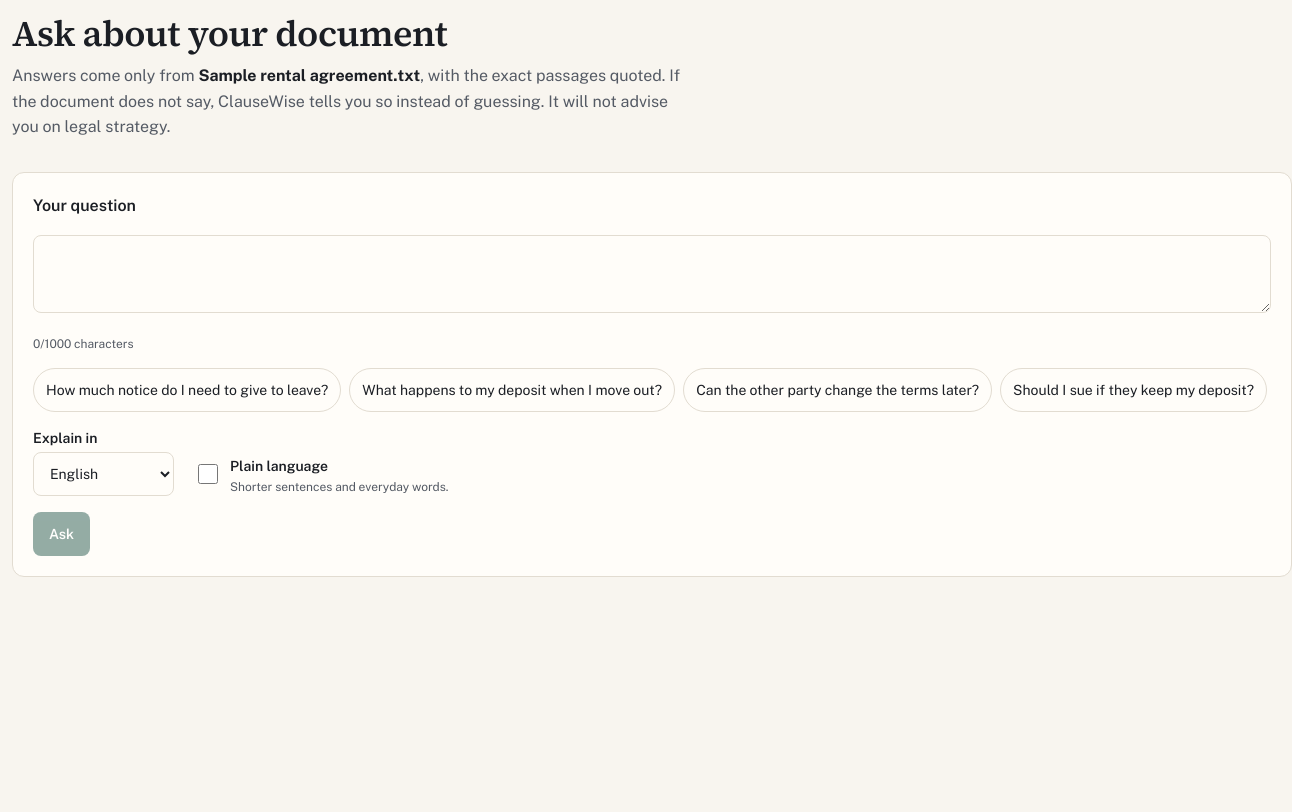
Test: AskView › shows a retryable error when the service fails
This screenshot has width=1292, height=812.
Click the button "How much notice do I need to give to leave?": click(187, 390) [33,368,341,412]
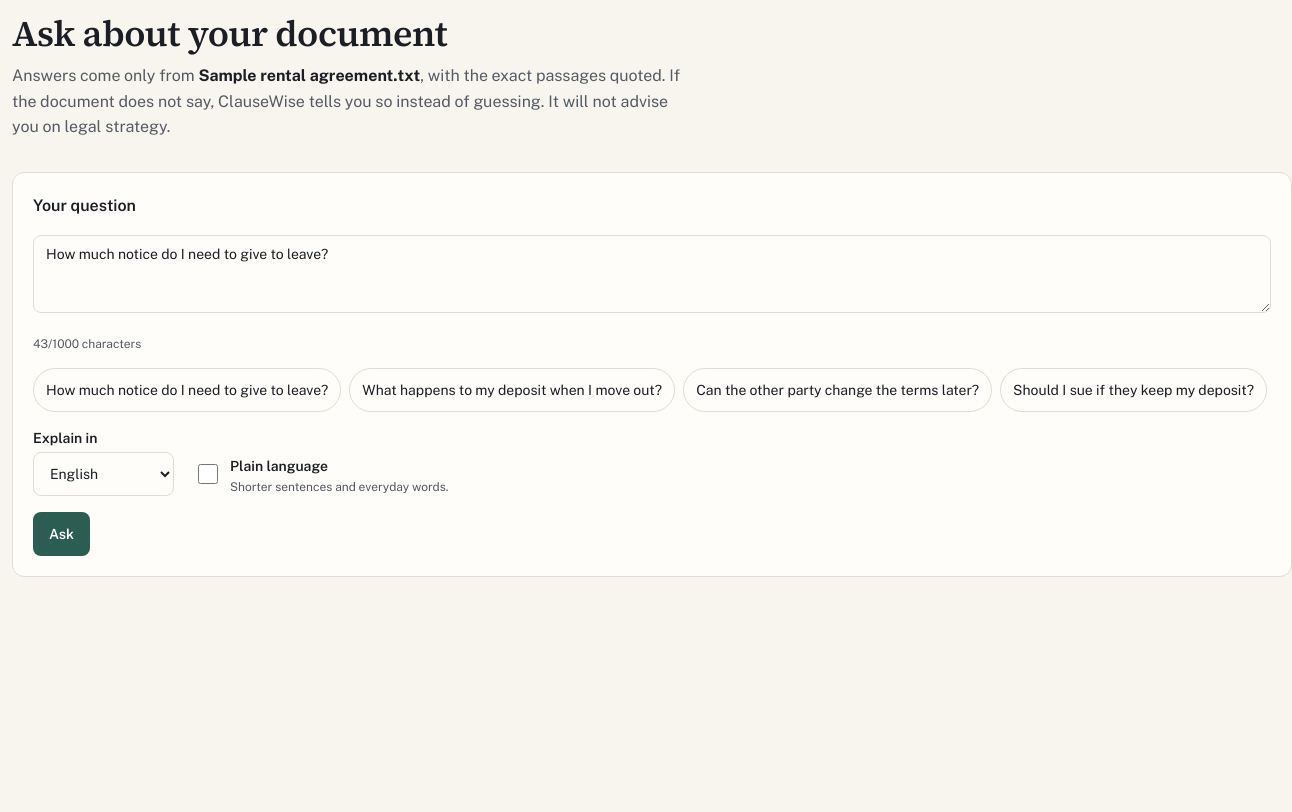
Click the button "Ask": click(62, 534) [33,512,90,556]
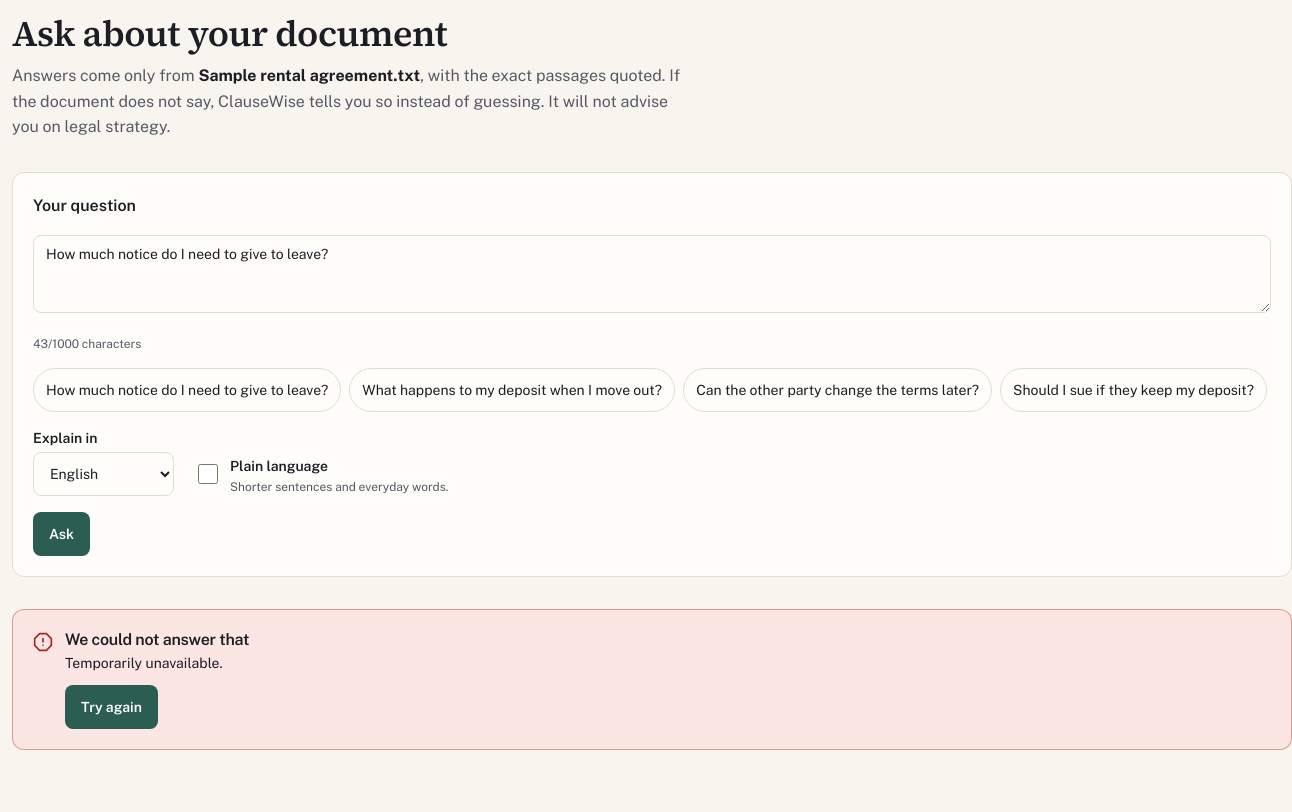
Result: the message shows "Temporarily unavailable." at [65,655,223,671]
Result: the button "Try again" is enabled at [65,685,158,729]
